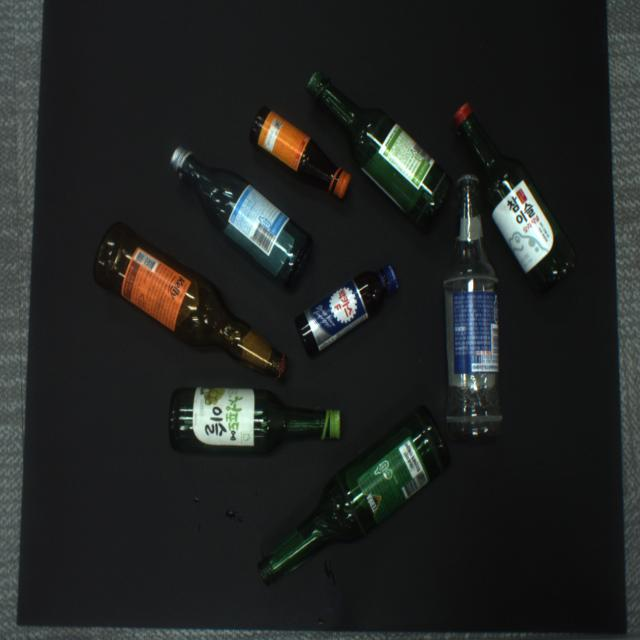beer-bottle: (259, 406, 449, 583), (94, 222, 287, 379), (443, 174, 503, 439)
soju-bottle: (452, 103, 575, 290), (307, 71, 451, 225), (169, 146, 313, 288), (169, 387, 340, 452)
